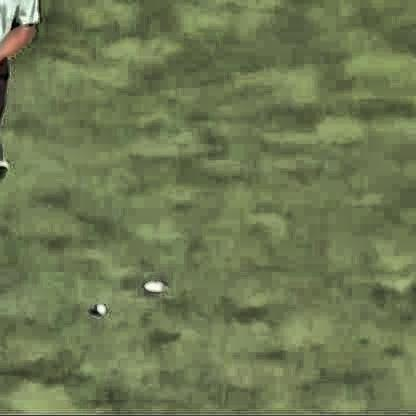golfball: (92, 301, 105, 312)
